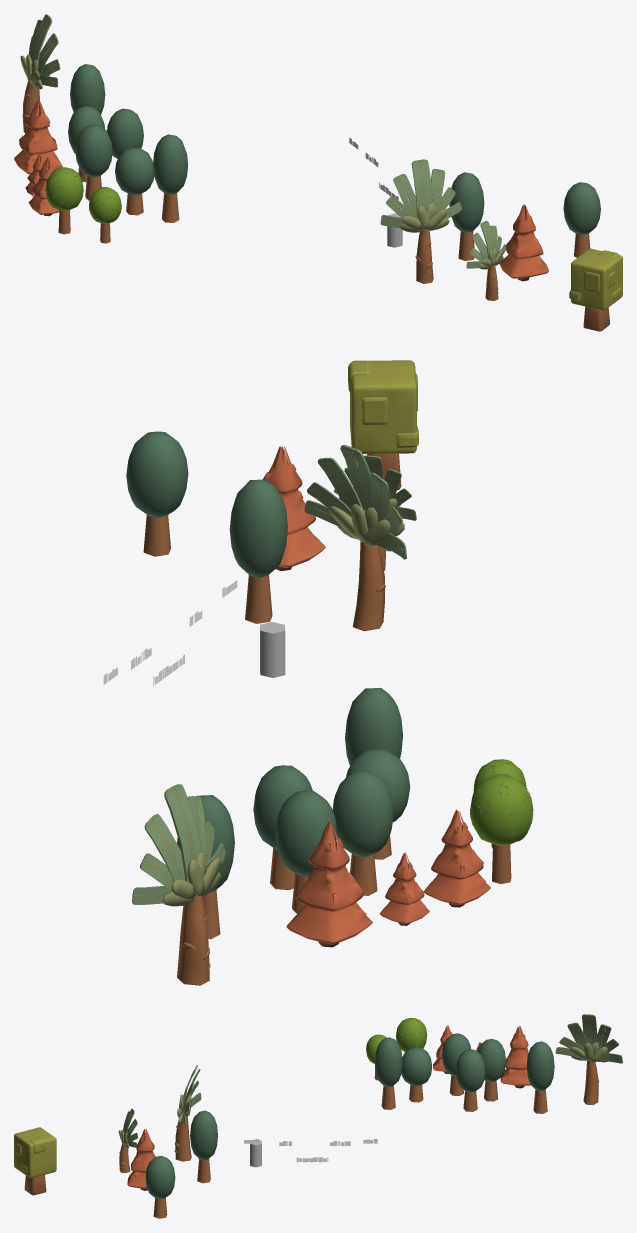
File: ball.glb
The picture shows the model from 3 angles, top to bottom: view 1: azimuth 30°, elevation 25°; view 2: azimuth 150°, elevation 25°; view 3: azimuth 270°, elevation 25°; orthographic projection. The views are drawn at different scales.
Parts seen in each view (by area): view 1: Cylinder_(1); view 2: Cylinder_(1); view 3: Cylinder_(1).
Part boxes in pixels (bbox=[...]): Cylinder_(1): bbox=[14, 14, 622, 331]; Cylinder_(1): bbox=[103, 360, 533, 985]; Cylinder_(1): bbox=[14, 1014, 622, 1218].
Bounding box in the file's own units: 20.65 × 5.67 × 33.56.
Materials: 10 (8 with a texture image).
